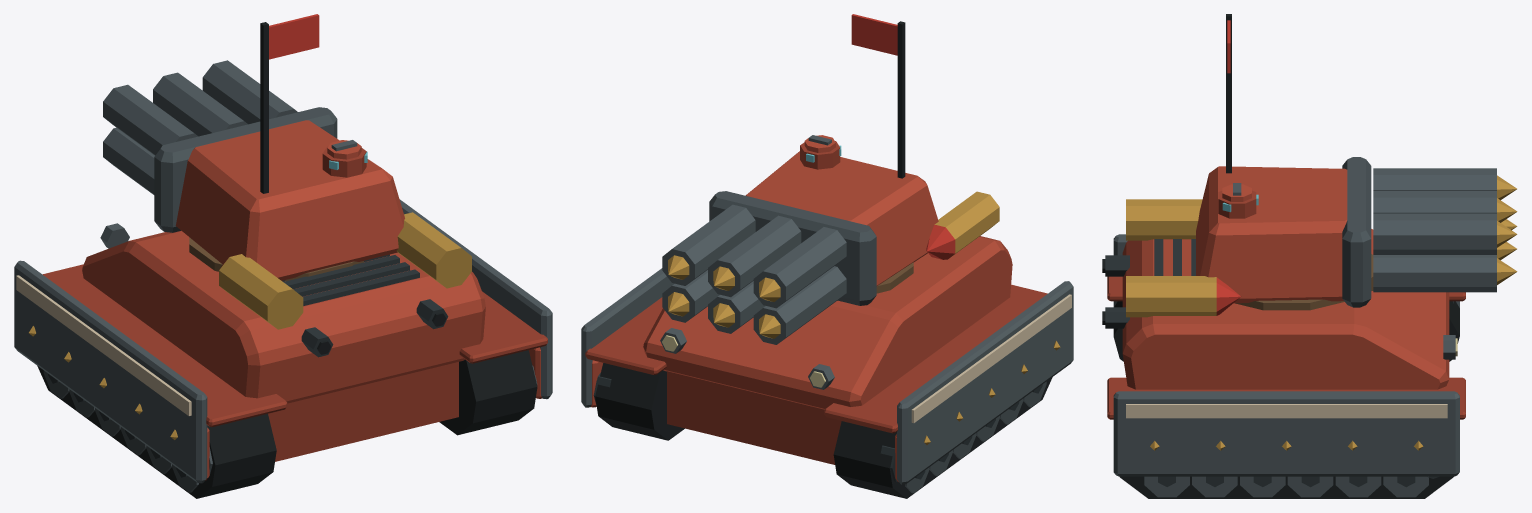
3 views of the same model, side by side, from view 1: azimuth 30°, elevation 25°; view 2: azimuth 150°, elevation 25°; view 3: azimuth 270°, elevation 25° (orthographic). The views are drawn at different scales.
Visible parts, largest first — view 1: boss_hull_1, boss_turret_1; view 2: boss_hull_1, boss_turret_1; view 3: boss_hull_1, boss_turret_1.
Part boxes in pixels (<box>): boss_hull_1: <box>14,199,552,498</box>; boss_turret_1: <box>103,14,404,281</box>; boss_hull_1: <box>581,191,1073,498</box>; boss_turret_1: <box>662,14,938,344</box>; boss_hull_1: <box>1102,199,1465,498</box>; boss_turret_1: <box>1196,14,1517,310</box>.
Bounding box in the file's own units: 0.96 × 1.04 × 1.01.
